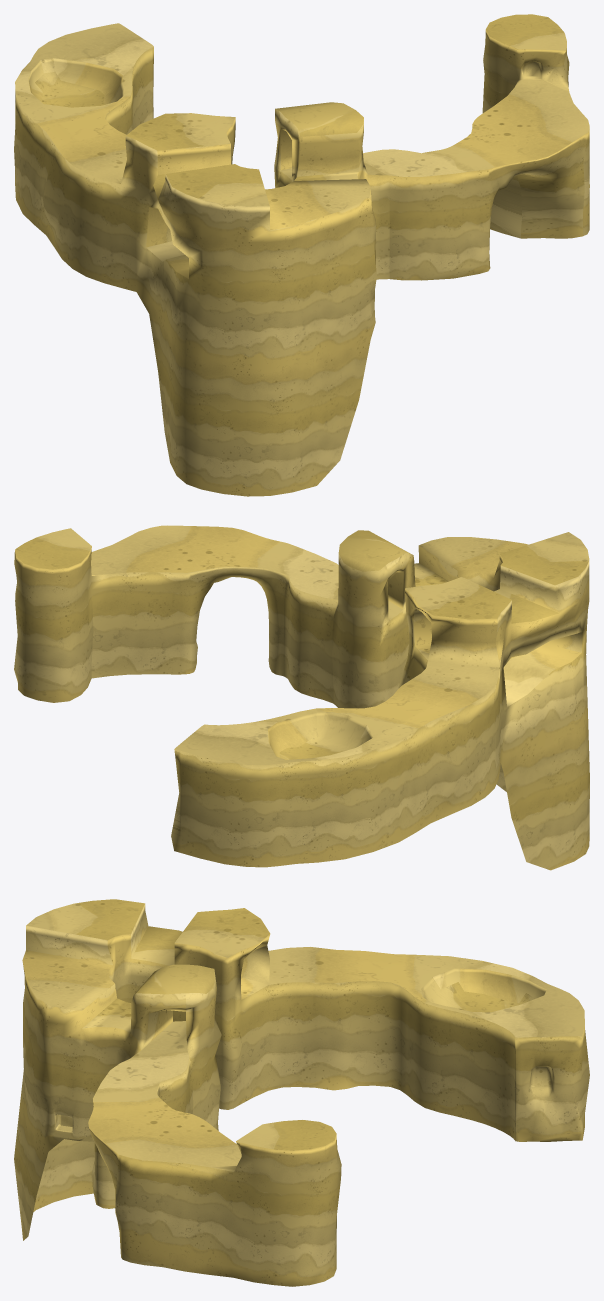
3 renders of one model, top to bottom at view 1: azimuth 30°, elevation 25°; view 2: azimuth 150°, elevation 25°; view 3: azimuth 270°, elevation 25°, orthographic. The views are drawn at different scales.
Visible parts, largest first — view 1: PolyShape3; view 2: PolyShape3; view 3: PolyShape3.
Boxes of the visible parts, <box> form: PolyShape3: <box>14,14,589,496</box>; PolyShape3: <box>14,525,589,870</box>; PolyShape3: <box>14,899,589,1286</box>.
Bounding box in the file's own units: 1.55 × 0.9093 × 1.58.
